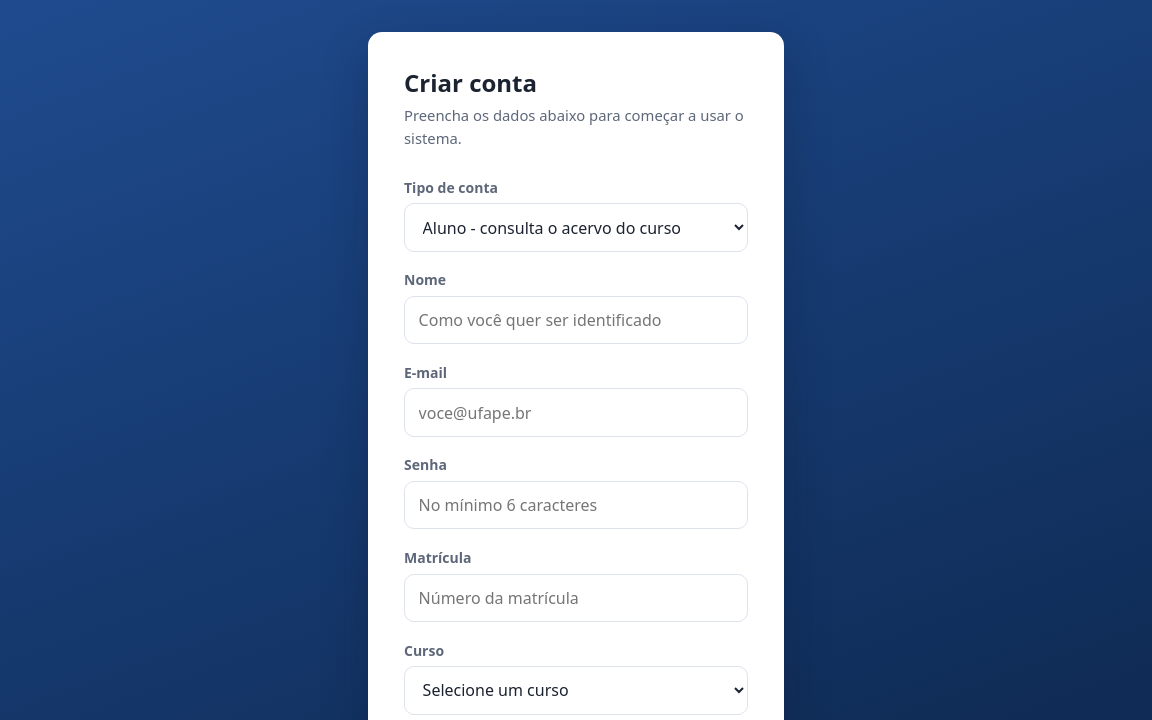
Scenario: Tela de cadastro › trocando o tipo para pesquisador, mostra número Lattes e vínculo
Select "Pesquisador - publica produções científicas" in the dropdown labelled "Tipo de conta" at x=576, y=228, box 404,203 -> 748,252
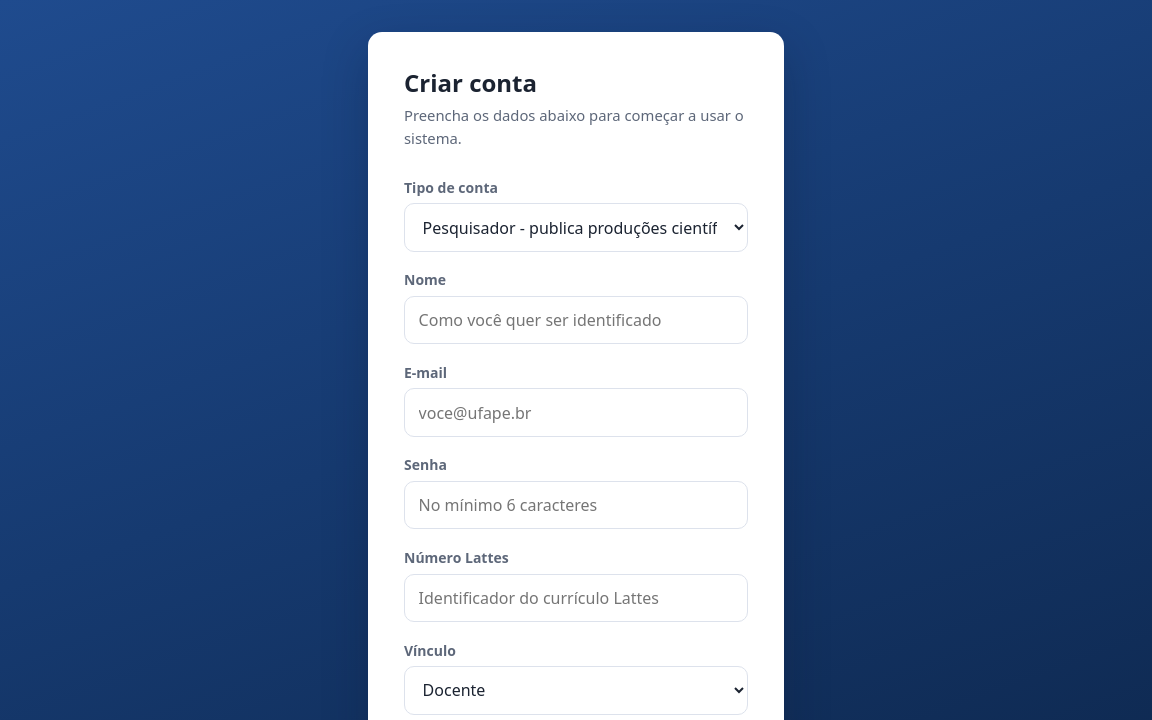
Expected: the field labelled "Número Lattes" is shown, 404,574 -> 748,622
Expected: the text labelled "Matrícula" is gone
